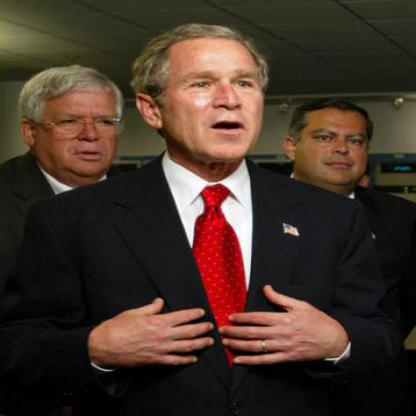face: (160, 29, 272, 163), (37, 70, 129, 180), (297, 101, 374, 188)
